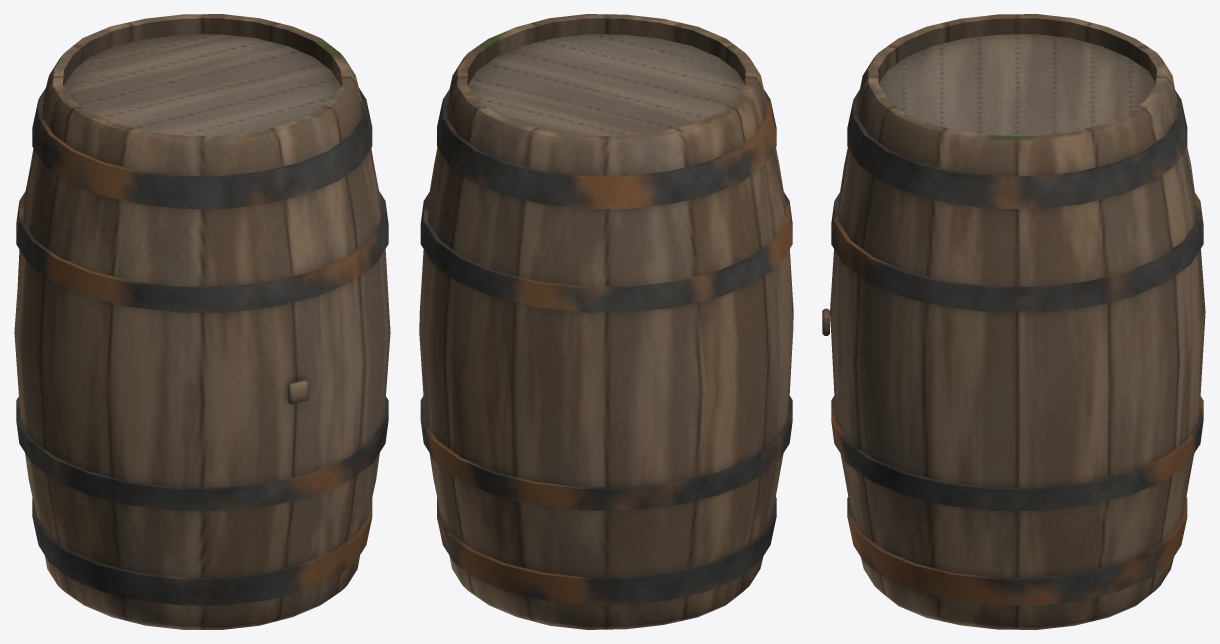
The model's file is fm_barrel_wooden.glb.
3 views of the same model, side by side, from view 1: azimuth 30°, elevation 25°; view 2: azimuth 150°, elevation 25°; view 3: azimuth 270°, elevation 25° (orthographic).
Parts seen in each view (by area): view 1: fm_barrel_wooden; view 2: fm_barrel_wooden; view 3: fm_barrel_wooden.
Boxes of the visible parts, bbox=[...] form: fm_barrel_wooden: bbox=[14, 14, 390, 629]; fm_barrel_wooden: bbox=[419, 14, 793, 629]; fm_barrel_wooden: bbox=[822, 14, 1205, 629].
Bounding box in the file's own units: 0.5963 × 0.86 × 0.6092.
2 materials, 2 textured.
